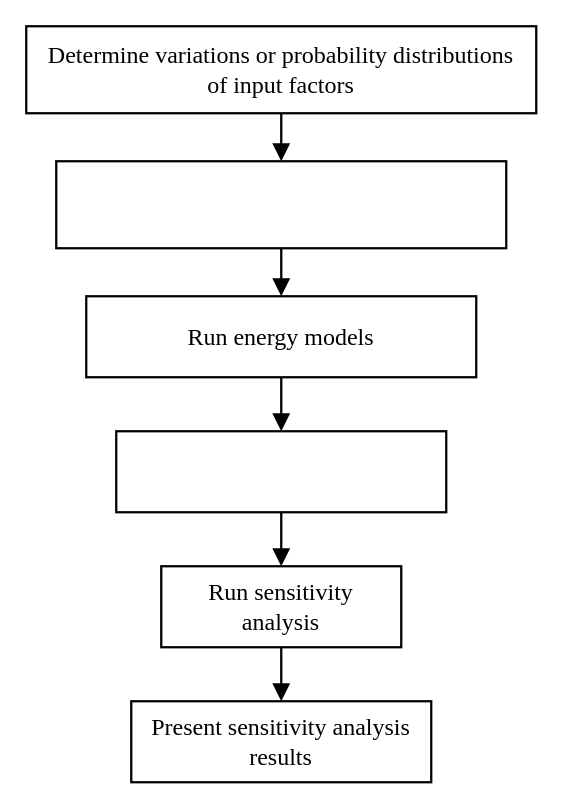
This 564x810 diagram has some shape labels left out. The shapes that lost their labels are listed below. From the top down, each one's centre as x and y in pixels, then its label:
At point (280, 204): "Create building energy models based on input variations".
At point (280, 471): "Collect simulation results".
